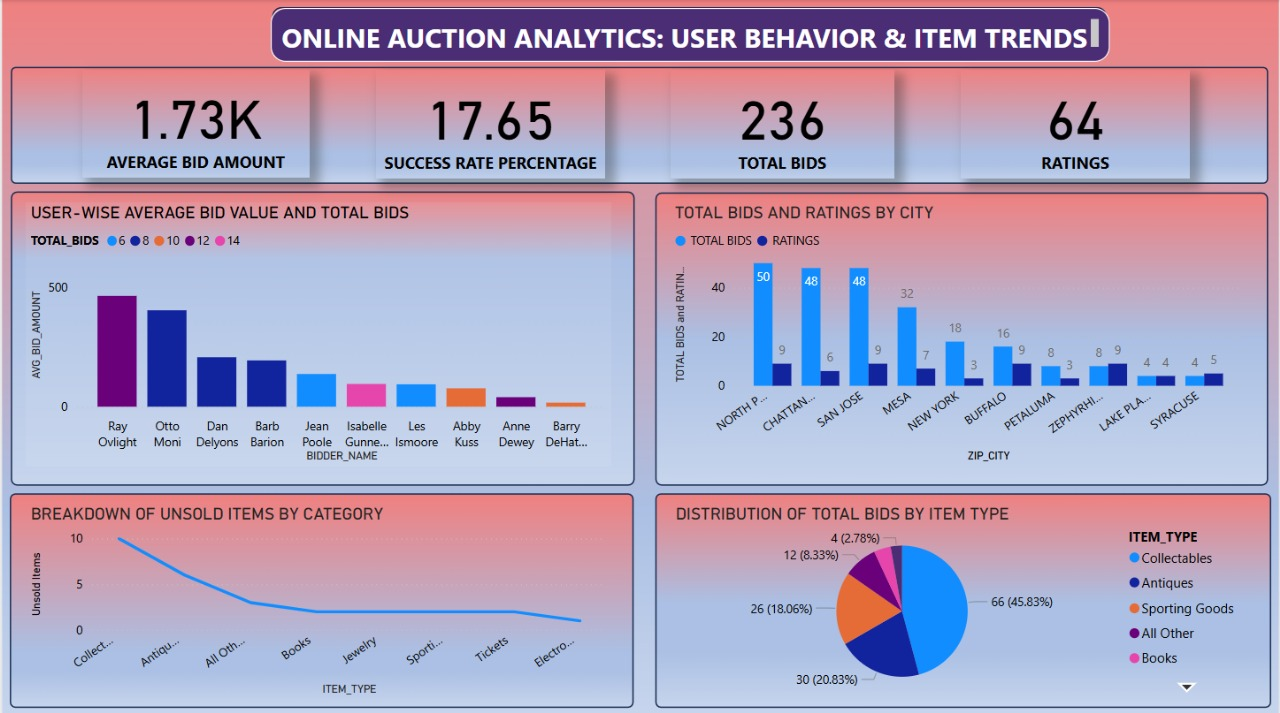

The dashboard page shown, as its layout file describes it:
{"tool":"powerbi","page":{"name":"Page 1","canvas":[1280,720],"ordinal":0},"visuals":[{"type":"card","fields":{"Values":["Sum(Auction Success %.SUCCESS_RATE_PERCENTAGE)"]},"box":[374.8,70,229.7,109.1],"z":5000},{"type":"columnChart","title":"USER-WISE AVERAGE BID VALUE AND TOTAL BIDS","fields":{"Category":["Bidders.BIDDER_NAME"],"Y":["Sum(Bidders.AVG_BID_AMOUNT)"],"Series":["Bidders.TOTAL_BIDS"]},"box":[23.9,203.1,587,265.1],"z":6000},{"type":"pieChart","title":"DISTRIBUTION OF TOTAL BIDS BY ITEM TYPE","fields":{"Category":["Items.ITEM_TYPE"],"Y":["Sum(Items.TOTAL_BIDS)"]},"box":[670.3,505.4,579,196.8],"z":7000},{"type":"lineChart","title":"BREAKDOWN OF UNSOLD ITEMS BY CATEGORY","fields":{"Category":["ItemType.ITEM_TYPE"],"Y":["Sum(ItemType.UNSOLD_COUNT)"]},"box":[23.9,505.4,587,196.8],"z":8000},{"type":"clusteredColumnChart","title":"TOTAL BIDS AND RATINGS BY CITY","fields":{"Y":["Sum(Location.TOTAL_BIDS)","Sum(Location.RATING_VALUE)"],"Category":["Location.ZIP_CITY"]},"box":[669.5,203.1,579.9,265.1],"z":9000},{"type":"textbox","box":[269.6,8,840.6,54.1],"z":10000},{"type":"card","fields":{"Values":["Sum(Bidders.AVG_BID_AMOUNT)"]},"box":[80.7,70.5,227.9,108.2],"z":11000},{"type":"card","fields":{"Values":["Sum(Location.TOTAL_BIDS)"]},"box":[670.6,70,224.3,109.1],"z":12000},{"type":"card","fields":{"Values":["Sum(Location.RATING_VALUE)"]},"box":[961.2,70,229.7,109.1],"z":13000}]}

Visuals, with their boxes in screenshot pixels (x1, y1, x2, y2), scaled from the page's 1280x720 canvas onto the 1280x713 screenshot:
card - Sum(Auction Success %.SUCCESS_RATE_PERCENTAGE): (left=375, top=69, right=604, bottom=177)
"USER-WISE AVERAGE BID VALUE AND TOTAL BIDS" columnChart: (left=24, top=201, right=611, bottom=464)
"DISTRIBUTION OF TOTAL BIDS BY ITEM TYPE" pieChart: (left=670, top=500, right=1249, bottom=695)
"BREAKDOWN OF UNSOLD ITEMS BY CATEGORY" lineChart: (left=24, top=500, right=611, bottom=695)
"TOTAL BIDS AND RATINGS BY CITY" clusteredColumnChart: (left=670, top=201, right=1249, bottom=464)
textbox: (left=270, top=8, right=1110, bottom=61)
card - Sum(Bidders.AVG_BID_AMOUNT): (left=81, top=70, right=309, bottom=177)
card - Sum(Location.TOTAL_BIDS): (left=671, top=69, right=895, bottom=177)
card - Sum(Location.RATING_VALUE): (left=961, top=69, right=1191, bottom=177)
